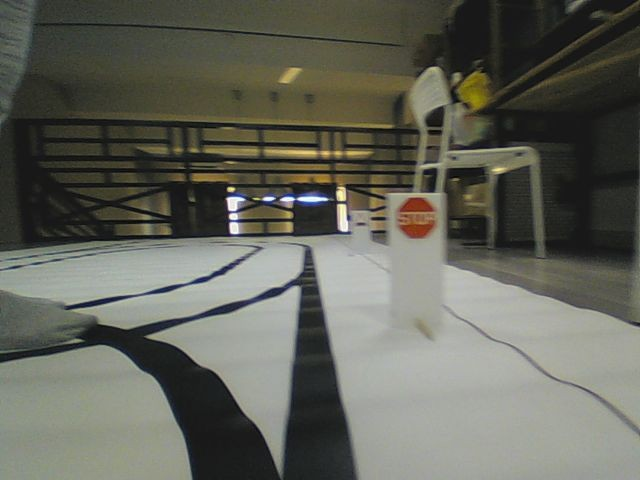Stop: (395, 197, 438, 240)
